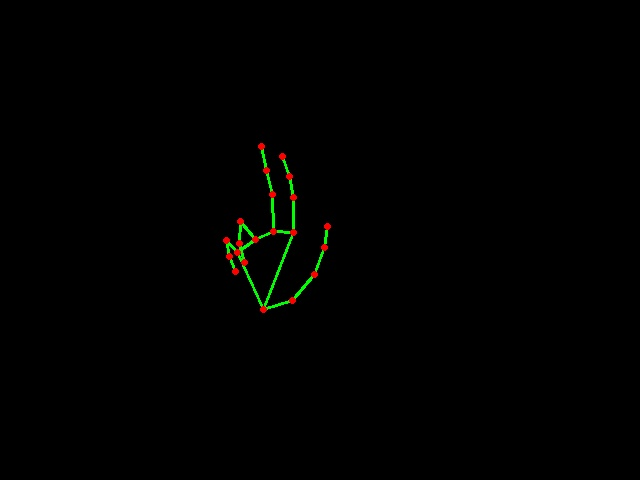forward: (212, 128, 337, 323)
